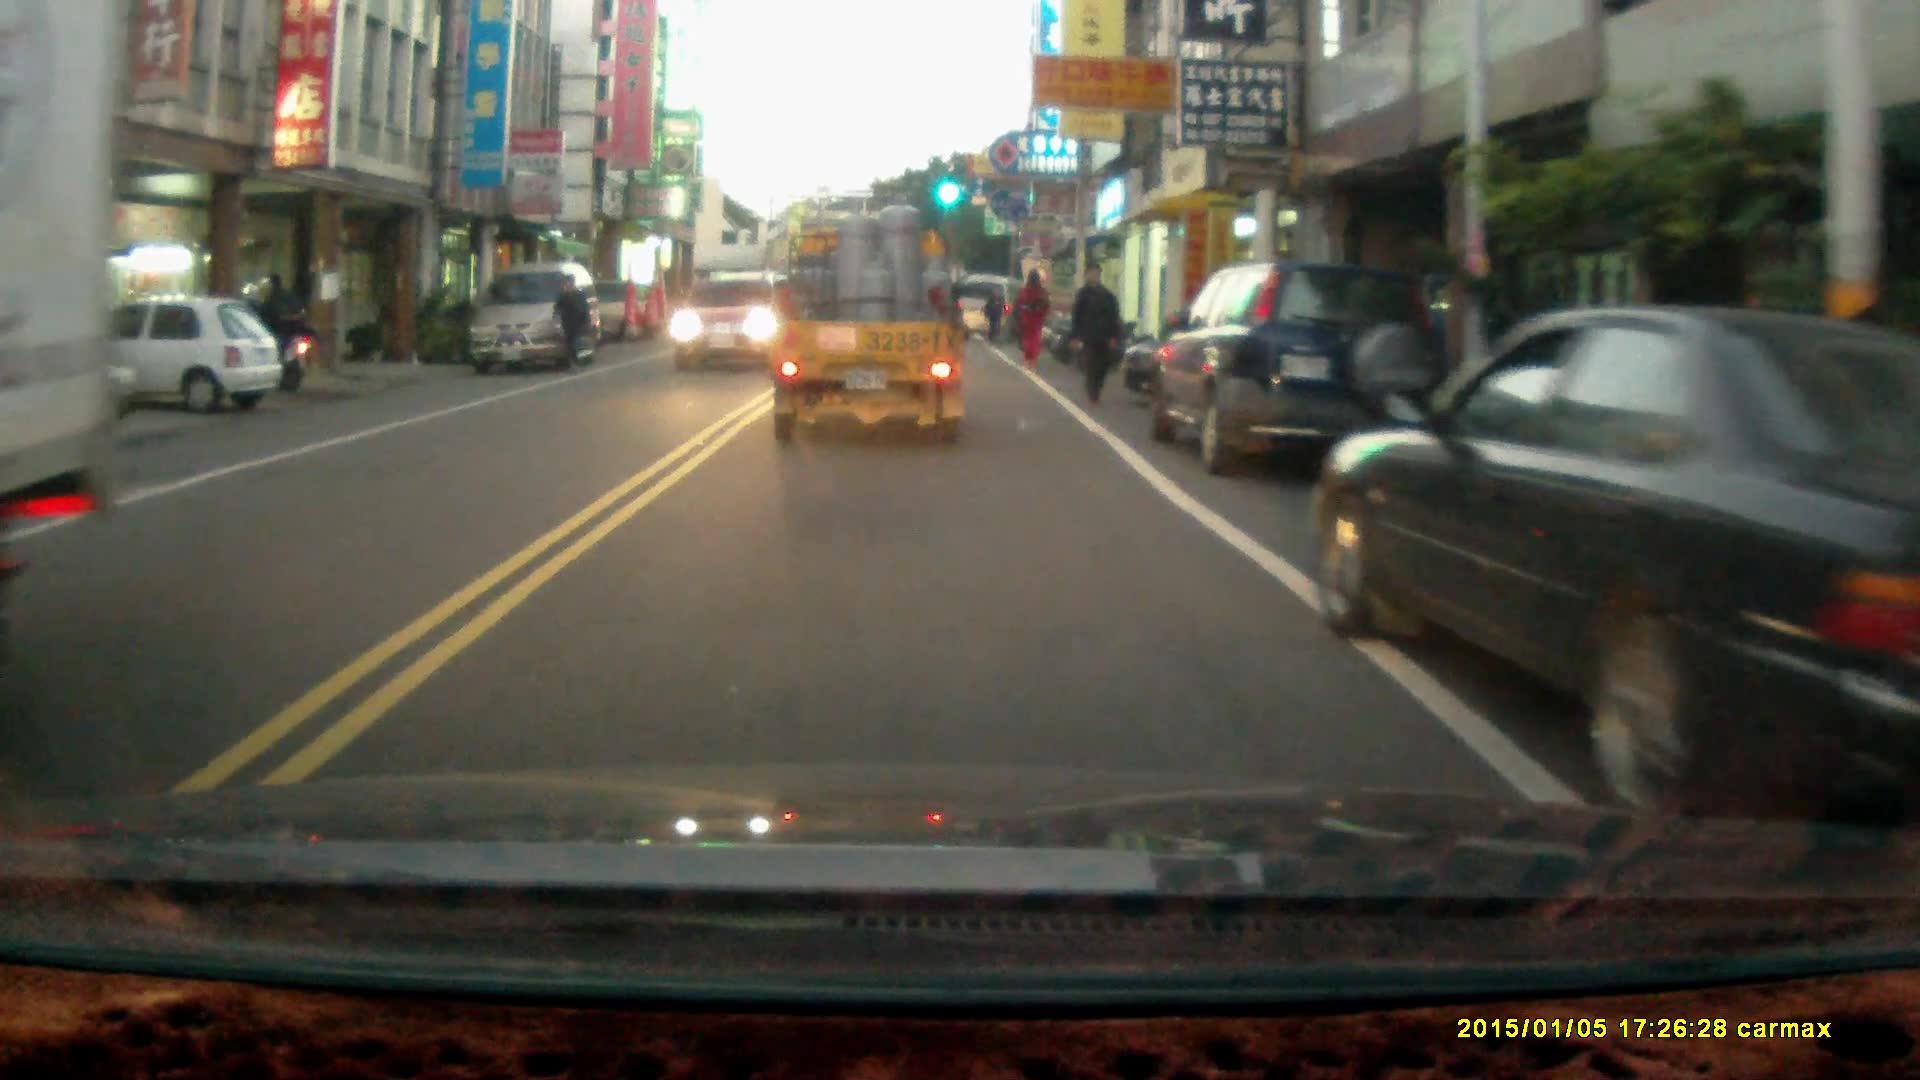pedestrian: (1067, 257, 1125, 410), (270, 267, 315, 391), (546, 272, 592, 372), (1011, 269, 1049, 370), (982, 286, 1007, 344)
rider: (224, 279, 310, 393)
vehicle: (1308, 307, 1920, 792), (1, 19, 155, 602), (1152, 260, 1444, 478), (772, 194, 970, 448), (37, 292, 272, 414), (468, 262, 600, 374), (668, 277, 783, 375)
